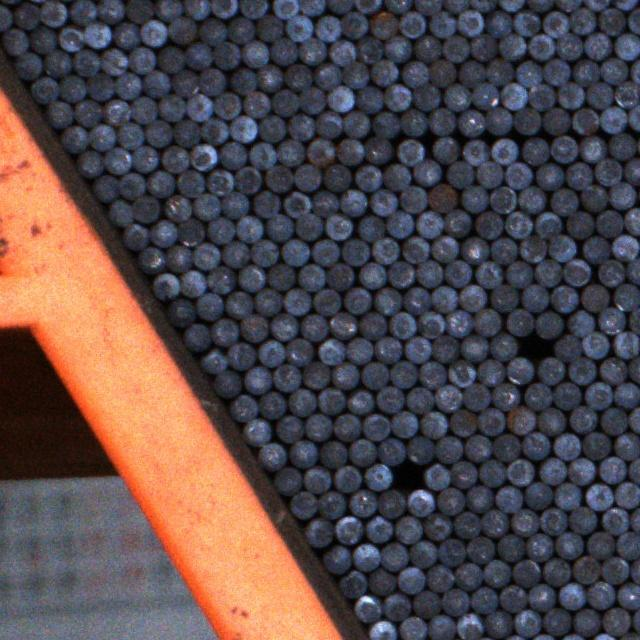tool: (379, 542, 408, 572), (73, 99, 103, 127), (367, 567, 395, 597), (242, 417, 270, 446), (43, 49, 71, 78), (288, 438, 317, 466), (316, 490, 344, 519), (454, 9, 483, 37), (156, 45, 184, 74), (176, 217, 204, 246), (436, 487, 464, 516), (538, 507, 567, 535), (584, 381, 612, 410), (542, 607, 571, 635), (602, 607, 630, 636), (580, 432, 610, 459), (305, 518, 333, 546), (178, 269, 206, 297), (334, 516, 362, 544), (127, 46, 155, 74), (86, 73, 114, 101), (269, 38, 297, 66), (326, 84, 354, 112), (499, 82, 527, 110), (221, 190, 249, 218), (206, 216, 234, 244), (428, 184, 456, 212), (504, 210, 532, 238), (562, 258, 590, 286), (474, 260, 502, 288), (361, 413, 389, 441), (506, 406, 534, 434), (552, 432, 580, 460), (480, 510, 508, 538), (408, 540, 436, 568), (466, 536, 494, 564), (497, 534, 525, 562), (426, 564, 454, 592), (484, 610, 512, 638), (211, 318, 238, 347), (185, 41, 212, 70), (584, 31, 611, 60), (522, 383, 551, 410), (509, 509, 538, 536), (483, 559, 510, 588), (1, 28, 29, 55), (61, 125, 88, 153), (166, 299, 194, 326), (212, 370, 240, 397), (322, 546, 350, 573), (353, 595, 381, 622), (103, 146, 130, 174), (196, 292, 223, 320), (258, 391, 286, 418), (276, 414, 303, 442), (369, 11, 397, 38), (99, 48, 127, 75), (102, 99, 130, 126), (213, 42, 240, 70), (384, 34, 411, 62), (414, 34, 441, 62), (284, 64, 312, 91), (243, 90, 270, 118), (486, 58, 513, 86), (383, 84, 410, 112), (442, 84, 470, 111), (218, 142, 245, 170), (550, 135, 577, 163), (266, 213, 293, 241), (192, 241, 219, 269), (442, 209, 469, 237), (596, 210, 623, 238), (303, 412, 330, 440), (389, 410, 416, 438), (318, 441, 346, 468), (407, 436, 434, 464), (522, 431, 549, 459), (506, 458, 533, 486), (406, 489, 434, 516), (394, 516, 421, 544), (453, 511, 480, 539), (396, 566, 423, 594), (454, 562, 481, 590), (413, 590, 440, 618), (441, 588, 468, 616), (469, 586, 496, 614), (499, 585, 526, 613), (513, 609, 540, 637), (568, 405, 595, 433), (613, 432, 640, 460), (553, 482, 580, 510), (568, 506, 595, 534), (586, 581, 614, 608), (585, 532, 613, 559), (30, 76, 59, 102), (132, 194, 158, 223), (491, 435, 520, 461), (45, 101, 72, 128), (118, 172, 145, 199), (397, 11, 424, 38), (597, 8, 624, 35), (298, 37, 325, 64), (328, 39, 355, 66), (470, 34, 497, 61), (498, 33, 525, 60), (256, 65, 283, 92), (370, 59, 397, 86), (458, 61, 485, 88), (157, 93, 184, 120), (543, 58, 570, 85), (295, 213, 322, 240), (385, 210, 412, 237), (341, 239, 368, 266), (257, 340, 284, 367), (418, 361, 445, 388), (534, 259, 561, 286), (434, 384, 461, 411), (462, 383, 489, 410), (552, 382, 579, 409), (597, 307, 624, 334), (612, 331, 639, 358), (477, 408, 504, 435), (435, 436, 462, 463), (449, 461, 476, 488), (348, 489, 375, 516), (424, 513, 451, 540), (538, 458, 565, 485), (585, 484, 612, 511), (573, 608, 600, 635), (13, 52, 41, 78), (137, 247, 165, 273), (258, 442, 284, 470), (274, 467, 300, 495), (13, 2, 39, 30), (167, 17, 195, 43), (284, 15, 312, 41), (340, 11, 368, 37), (59, 74, 85, 102), (88, 124, 116, 150), (150, 219, 176, 247), (429, 10, 455, 38), (484, 12, 512, 38), (72, 48, 98, 76), (241, 40, 267, 68), (554, 34, 582, 60), (144, 70, 170, 98), (186, 93, 212, 121), (213, 92, 241, 118), (298, 88, 326, 114), (471, 82, 497, 110), (586, 82, 612, 110), (200, 118, 228, 144), (306, 139, 334, 165), (283, 192, 311, 218), (236, 215, 262, 243), (220, 240, 248, 266), (462, 236, 488, 264), (282, 288, 310, 314), (346, 336, 372, 364), (476, 160, 502, 188), (504, 162, 532, 188), (594, 158, 620, 186), (613, 282, 639, 310), (449, 410, 477, 436), (538, 407, 564, 435), (478, 459, 504, 487), (363, 464, 391, 490), (377, 490, 403, 518), (464, 486, 492, 512), (526, 482, 552, 510), (526, 533, 552, 561), (512, 559, 538, 587), (543, 558, 569, 586), (598, 357, 626, 383), (572, 555, 598, 583), (199, 349, 228, 374), (166, 244, 191, 273), (334, 413, 359, 442), (107, 200, 133, 227), (183, 324, 209, 351), (230, 395, 257, 421), (289, 491, 316, 517), (340, 570, 366, 597), (57, 26, 84, 52), (140, 19, 166, 46), (112, 23, 139, 49), (199, 20, 226, 46), (352, 544, 379, 570), (114, 72, 140, 99), (356, 36, 382, 63), (442, 35, 468, 62), (527, 33, 553, 60), (614, 32, 640, 59), (230, 68, 256, 95), (314, 64, 341, 90), (341, 62, 368, 88), (401, 62, 428, 88), (572, 59, 599, 85), (600, 57, 626, 84), (412, 84, 439, 110), (557, 82, 583, 109), (614, 81, 640, 108), (116, 122, 143, 148), (249, 142, 276, 168), (277, 140, 304, 166), (190, 143, 216, 170), (428, 108, 455, 134), (459, 109, 485, 136), (513, 108, 540, 134), (542, 108, 569, 134), (491, 138, 517, 165), (608, 132, 634, 159), (177, 171, 204, 197), (253, 191, 279, 218), (250, 240, 277, 266), (281, 240, 308, 266), (340, 190, 366, 217), (399, 186, 426, 212), (416, 210, 442, 237), (298, 264, 324, 291), (238, 265, 265, 291), (255, 288, 281, 315), (240, 314, 266, 341), (301, 314, 327, 341), (329, 312, 356, 338), (446, 310, 472, 337), (286, 338, 312, 365), (273, 365, 300, 391), (390, 361, 416, 388), (288, 389, 314, 416), (317, 388, 344, 414), (477, 360, 504, 386), (461, 185, 487, 212), (580, 183, 606, 210), (475, 212, 502, 238), (548, 234, 575, 260), (582, 237, 609, 263), (489, 284, 516, 310), (581, 285, 608, 311), (506, 357, 532, 384), (492, 383, 518, 410), (377, 438, 403, 465), (423, 463, 449, 490), (438, 539, 464, 566), (528, 584, 554, 611), (568, 457, 594, 484), (554, 532, 580, 559), (601, 506, 627, 533), (600, 557, 627, 583), (474, 308, 499, 336), (152, 273, 178, 299), (40, 0, 66, 26), (255, 14, 281, 40), (229, 343, 255, 369), (513, 10, 539, 36), (569, 7, 595, 33), (356, 86, 382, 112), (162, 146, 188, 172), (364, 137, 390, 163), (397, 140, 423, 166), (462, 140, 488, 166), (572, 108, 598, 134), (600, 106, 626, 132), (579, 136, 605, 162), (207, 170, 233, 196), (312, 239, 338, 265), (325, 213, 351, 239), (372, 237, 398, 263), (431, 236, 457, 262), (445, 260, 471, 286), (387, 261, 413, 287), (313, 289, 339, 315), (359, 313, 385, 339), (389, 312, 415, 338), (318, 338, 344, 364), (374, 336, 400, 362), (303, 361, 329, 387), (332, 362, 358, 388), (362, 362, 388, 388), (518, 186, 544, 212), (534, 212, 560, 238), (567, 212, 593, 238), (518, 235, 544, 261), (612, 234, 638, 260), (506, 261, 532, 287), (550, 286, 576, 312), (506, 309, 532, 335), (554, 334, 580, 360), (568, 358, 594, 384), (608, 182, 634, 208), (366, 516, 392, 542), (428, 614, 454, 640), (613, 382, 639, 408), (600, 408, 626, 434), (559, 582, 585, 608), (93, 175, 118, 202), (173, 70, 198, 97), (429, 60, 454, 87), (271, 90, 298, 115), (342, 112, 369, 137), (432, 136, 457, 163), (265, 166, 292, 191), (293, 165, 320, 190), (193, 194, 220, 219), (460, 284, 485, 311), (432, 335, 457, 362), (376, 387, 403, 412), (491, 333, 516, 360), (490, 186, 515, 213), (568, 310, 593, 337), (598, 259, 623, 286), (494, 487, 521, 512), (457, 613, 482, 640), (615, 481, 640, 508), (76, 151, 102, 176), (29, 27, 55, 52), (85, 22, 110, 48), (226, 18, 252, 43), (314, 15, 340, 40), (303, 467, 329, 492), (400, 615, 426, 640), (542, 12, 568, 37), (198, 70, 224, 95), (130, 96, 155, 122), (528, 84, 553, 110), (230, 116, 255, 142), (258, 116, 284, 141), (132, 146, 157, 172), (337, 139, 362, 165), (235, 166, 260, 192), (164, 195, 190, 220), (312, 192, 338, 217), (371, 190, 396, 216), (327, 264, 352, 290), (375, 288, 400, 314), (405, 287, 430, 313), (271, 314, 296, 340), (419, 311, 444, 337), (448, 361, 474, 386), (446, 162, 472, 187), (536, 164, 562, 189), (522, 285, 548, 310), (535, 312, 561, 337), (421, 412, 446, 438), (465, 436, 491, 461), (334, 466, 359, 492), (599, 457, 625, 482), (124, 223, 148, 250), (246, 366, 270, 393), (515, 62, 542, 86), (146, 120, 170, 147), (174, 120, 198, 147), (350, 439, 374, 466), (124, 0, 152, 23), (288, 115, 313, 140), (374, 112, 399, 137), (401, 110, 426, 135), (324, 166, 349, 191), (385, 165, 410, 190), (402, 237, 427, 262), (226, 292, 251, 317), (431, 286, 456, 311), (405, 337, 430, 362), (462, 336, 487, 361), (490, 238, 515, 263), (384, 593, 408, 619), (316, 112, 340, 138), (486, 108, 510, 134), (148, 171, 172, 197), (417, 260, 441, 286), (358, 263, 384, 287), (268, 264, 294, 288), (207, 268, 233, 292), (345, 287, 369, 313), (551, 190, 577, 214), (583, 332, 607, 358), (538, 357, 562, 383), (616, 532, 640, 558), (616, 582, 640, 608), (96, 0, 123, 23), (70, 0, 95, 24), (523, 139, 547, 164), (355, 166, 380, 190), (414, 161, 439, 185), (567, 164, 592, 188), (407, 388, 432, 412), (358, 217, 384, 240), (154, 0, 182, 21), (347, 391, 373, 413), (370, 619, 396, 640), (184, 0, 208, 20), (210, 0, 236, 18), (240, 0, 266, 18), (273, 0, 297, 18), (624, 158, 640, 185), (624, 207, 640, 234), (297, 0, 324, 15), (414, 0, 441, 15), (627, 308, 640, 336), (384, 0, 411, 13), (354, 0, 380, 13), (442, 0, 468, 13), (627, 8, 640, 34), (627, 258, 640, 284), (468, 0, 496, 12), (327, 0, 352, 13), (627, 357, 640, 382), (496, 0, 524, 11), (628, 458, 640, 483), (554, 0, 581, 11), (583, 0, 610, 11), (0, 6, 12, 30), (629, 104, 640, 130), (527, 0, 552, 11), (610, 0, 636, 10)
void: (512, 336, 554, 357), (387, 466, 421, 488)
